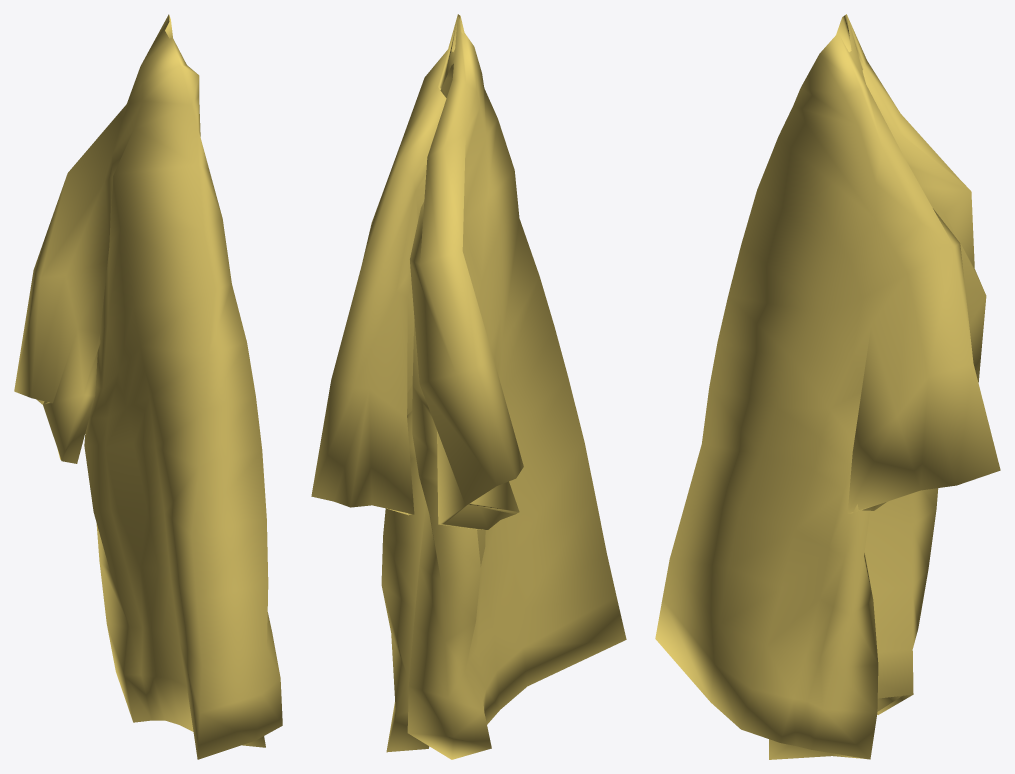
Rendered from Cloth.fbx.
3 views of the same model, side by side, from view 1: azimuth 30°, elevation 25°; view 2: azimuth 150°, elevation 25°; view 3: azimuth 270°, elevation 25° (orthographic). The views are drawn at different scales.
Parts seen in each view (by area): view 1: cloth.003; view 2: cloth.003; view 3: cloth.003.
Part boxes in pixels (bbox=[...]): cloth.003: bbox=[14, 14, 282, 759]; cloth.003: bbox=[311, 14, 626, 759]; cloth.003: bbox=[655, 14, 1000, 759].
Bounding box in the file's own units: 37.1 × 136 × 58.83.
